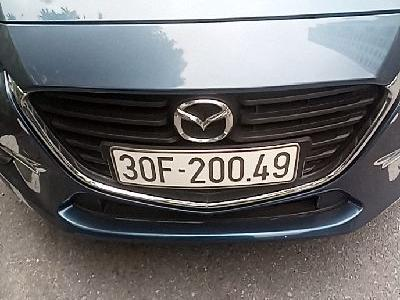number: (109, 144, 296, 187)
